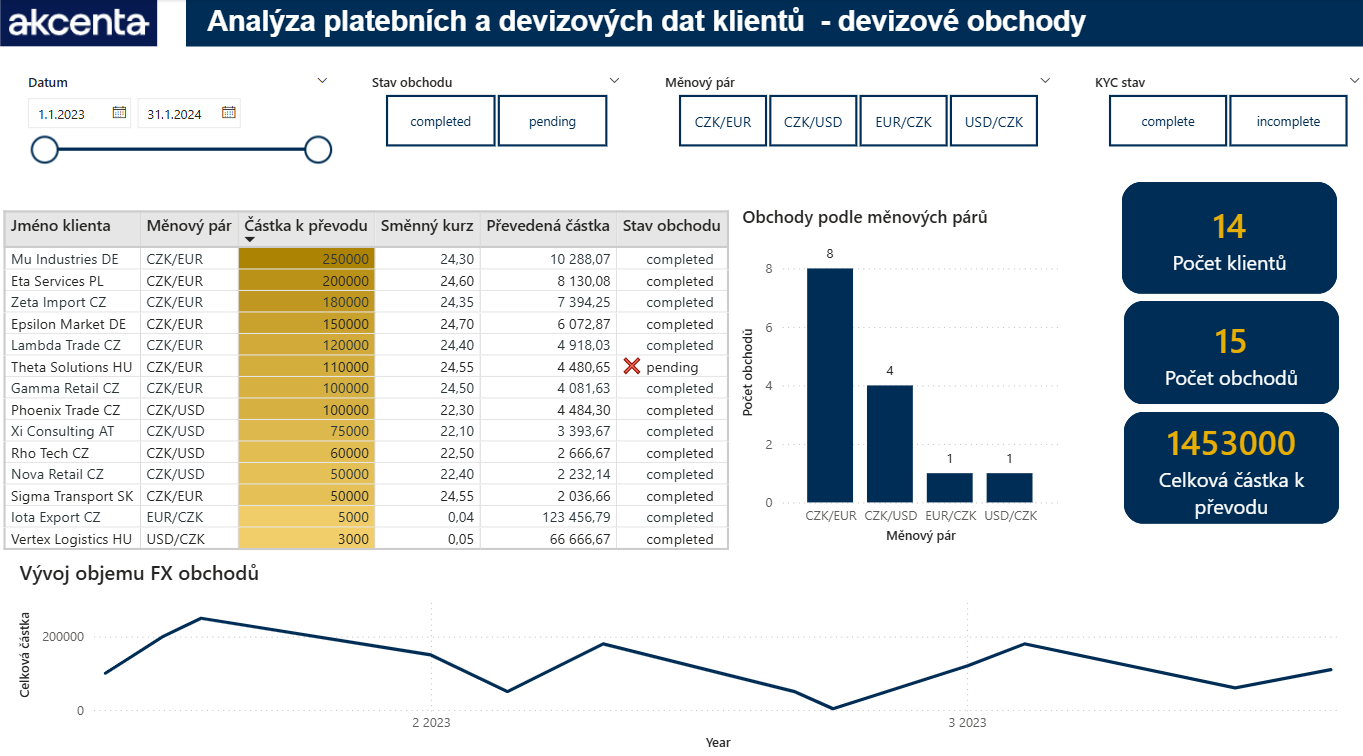

This screenshot's page, from the dashboard's own definition file:
{"tool":"powerbi","page":{"name":"Devizové obchody","canvas":[1280,720],"ordinal":1},"visuals":[{"type":"clusteredColumnChart","title":"Obchody podle měnových párů","fields":{"Category":["fact_fx_trades.menovy_par"],"Y":["_Measures.Pocet_Obchodu"]},"box":[688,192,304,320],"z":0},{"type":"slicer","fields":{"Values":["dim_calendar.Date"]},"box":[16,64,304,112],"z":1000},{"type":"cardVisual","fields":{"Data":["Count(fact_fx_trades.fx_trade_id)"]},"box":[1048,281.1,200,96],"z":2000},{"type":"cardVisual","fields":{"Data":["_Measures.Castka_s_menou"]},"box":[1048,384,200,104],"z":3000},{"type":"slicer","fields":{"Values":["fact_fx_trades.trade_status"]},"box":[336,64,256,80],"z":4000},{"type":"image","box":[0,0,152,44],"z":5000},{"type":"textbox","box":[176,0,1096,44],"z":6000},{"type":"cardVisual","fields":{"Data":["Count(fact_fx_trades.client_id)"]},"box":[1046.5,170.2,200,104],"z":7000},{"type":"slicer","fields":{"Values":["fact_fx_trades.menovy_par"]},"box":[608,64,384,80],"z":8000},{"type":"lineChart","title":"Vývoj objemu FX obchodů","fields":{"Category":["dim_calendar.Date.Variation.Date Hierarchy.Year","dim_calendar.Date.Variation.Date Hierarchy.Quarter","dim_calendar.Date.Variation.Date Hierarchy.Month","dim_calendar.Date.Variation.Date Hierarchy.Day"],"Y":["Sum(fact_fx_trades.amount_from)"]},"box":[16,520,1248,184],"z":9000},{"type":"tableEx","fields":{"Values":["dim_clients.client_name","fact_fx_trades.menovy_par","fact_fx_trades.amount_from","fact_fx_trades.exchange_rate","fact_fx_trades.amount_to","fact_fx_trades.trade_status"]},"box":[0,192,688,328],"z":10000},{"type":"slicer","fields":{"Values":["dim_clients.kyc_status"]},"box":[1008,64,272,80],"z":10001}]}

Visuals, with their boxes in screenshot pixels (x1, y1, x2, y2), scaled from the page's 1280x720 canvas onto the 1363x756 screenshot:
"Obchody podle měnových párů" clusteredColumnChart: <bbox>733, 202, 1056, 538</bbox>
slicer - dim_calendar.Date: <bbox>17, 67, 341, 185</bbox>
cardVisual - Count(fact_fx_trades.fx_trade_id): <bbox>1116, 295, 1329, 396</bbox>
cardVisual - _Measures.Castka_s_menou: <bbox>1116, 403, 1329, 512</bbox>
slicer - fact_fx_trades.trade_status: <bbox>358, 67, 630, 151</bbox>
image: <bbox>0, 0, 162, 46</bbox>
textbox: <bbox>187, 0, 1354, 46</bbox>
cardVisual - Count(fact_fx_trades.client_id): <bbox>1114, 179, 1327, 288</bbox>
slicer - fact_fx_trades.menovy_par: <bbox>647, 67, 1056, 151</bbox>
"Vývoj objemu FX obchodů" lineChart: <bbox>17, 546, 1346, 739</bbox>
tableEx - dim_clients.client_name x fact_fx_trades.menovy_par: <bbox>0, 202, 733, 546</bbox>
slicer - dim_clients.kyc_status: <bbox>1073, 67, 1362, 151</bbox>
